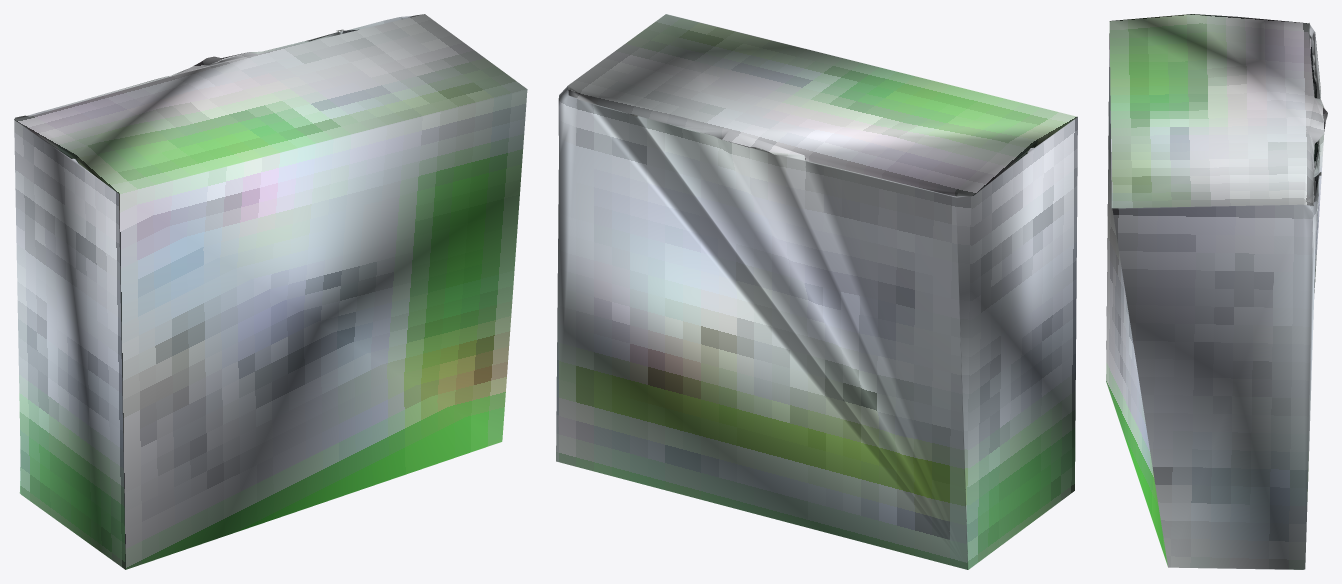
File: Mist_Wipe_Warmer-low.glb
The picture shows the model from 3 angles, left to right: view 1: azimuth 30°, elevation 25°; view 2: azimuth 150°, elevation 25°; view 3: azimuth 270°, elevation 25°; orthographic projection. The views are drawn at different scales.
Visible parts, largest first — view 1: Mist_Wipe_Warmer; view 2: Mist_Wipe_Warmer; view 3: Mist_Wipe_Warmer.
Part boxes in pixels (<box>): Mist_Wipe_Warmer: <box>14,14,527,569</box>; Mist_Wipe_Warmer: <box>556,14,1077,569</box>; Mist_Wipe_Warmer: <box>1106,14,1327,569</box>.
Size of the model in its own units: 0.2625 by 0.2301 by 0.126.
1 material, 1 textured.
